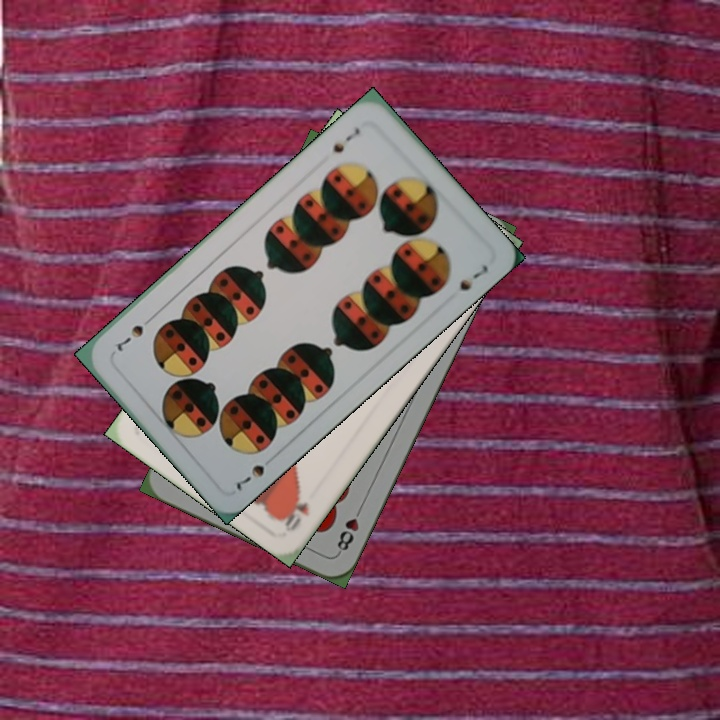H8: (332, 501, 365, 557)
HO: (278, 498, 312, 534)
S7: (232, 460, 267, 494), (329, 123, 363, 156)
